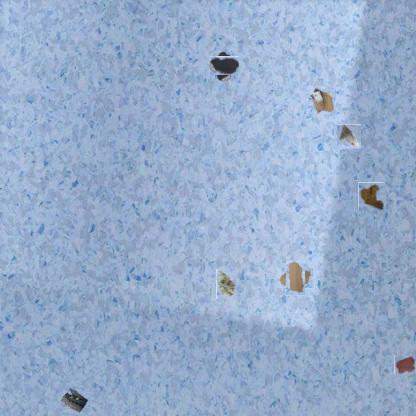dirty: (306, 86, 336, 116), (59, 384, 89, 414), (358, 182, 386, 211), (282, 264, 310, 292), (216, 269, 237, 299), (337, 125, 362, 149)
liquid: (212, 54, 237, 78), (394, 354, 415, 374)
